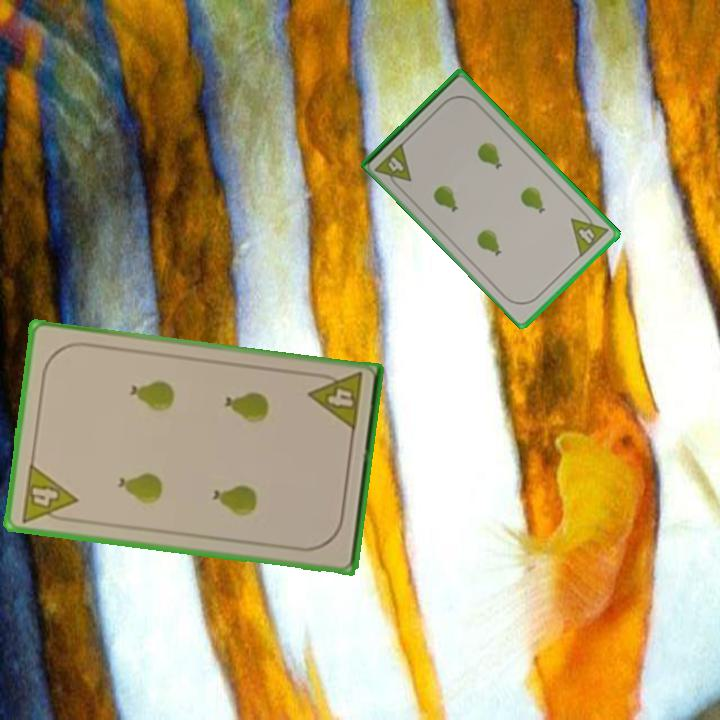4p: (17, 460, 80, 526), (306, 369, 366, 434), (567, 205, 611, 260), (372, 139, 415, 193)
